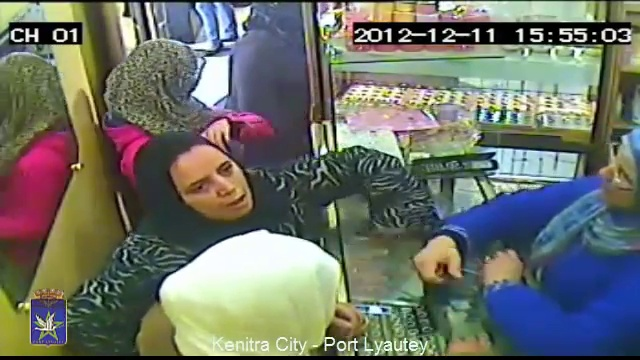face: (172, 153, 255, 222), (599, 136, 638, 204)
